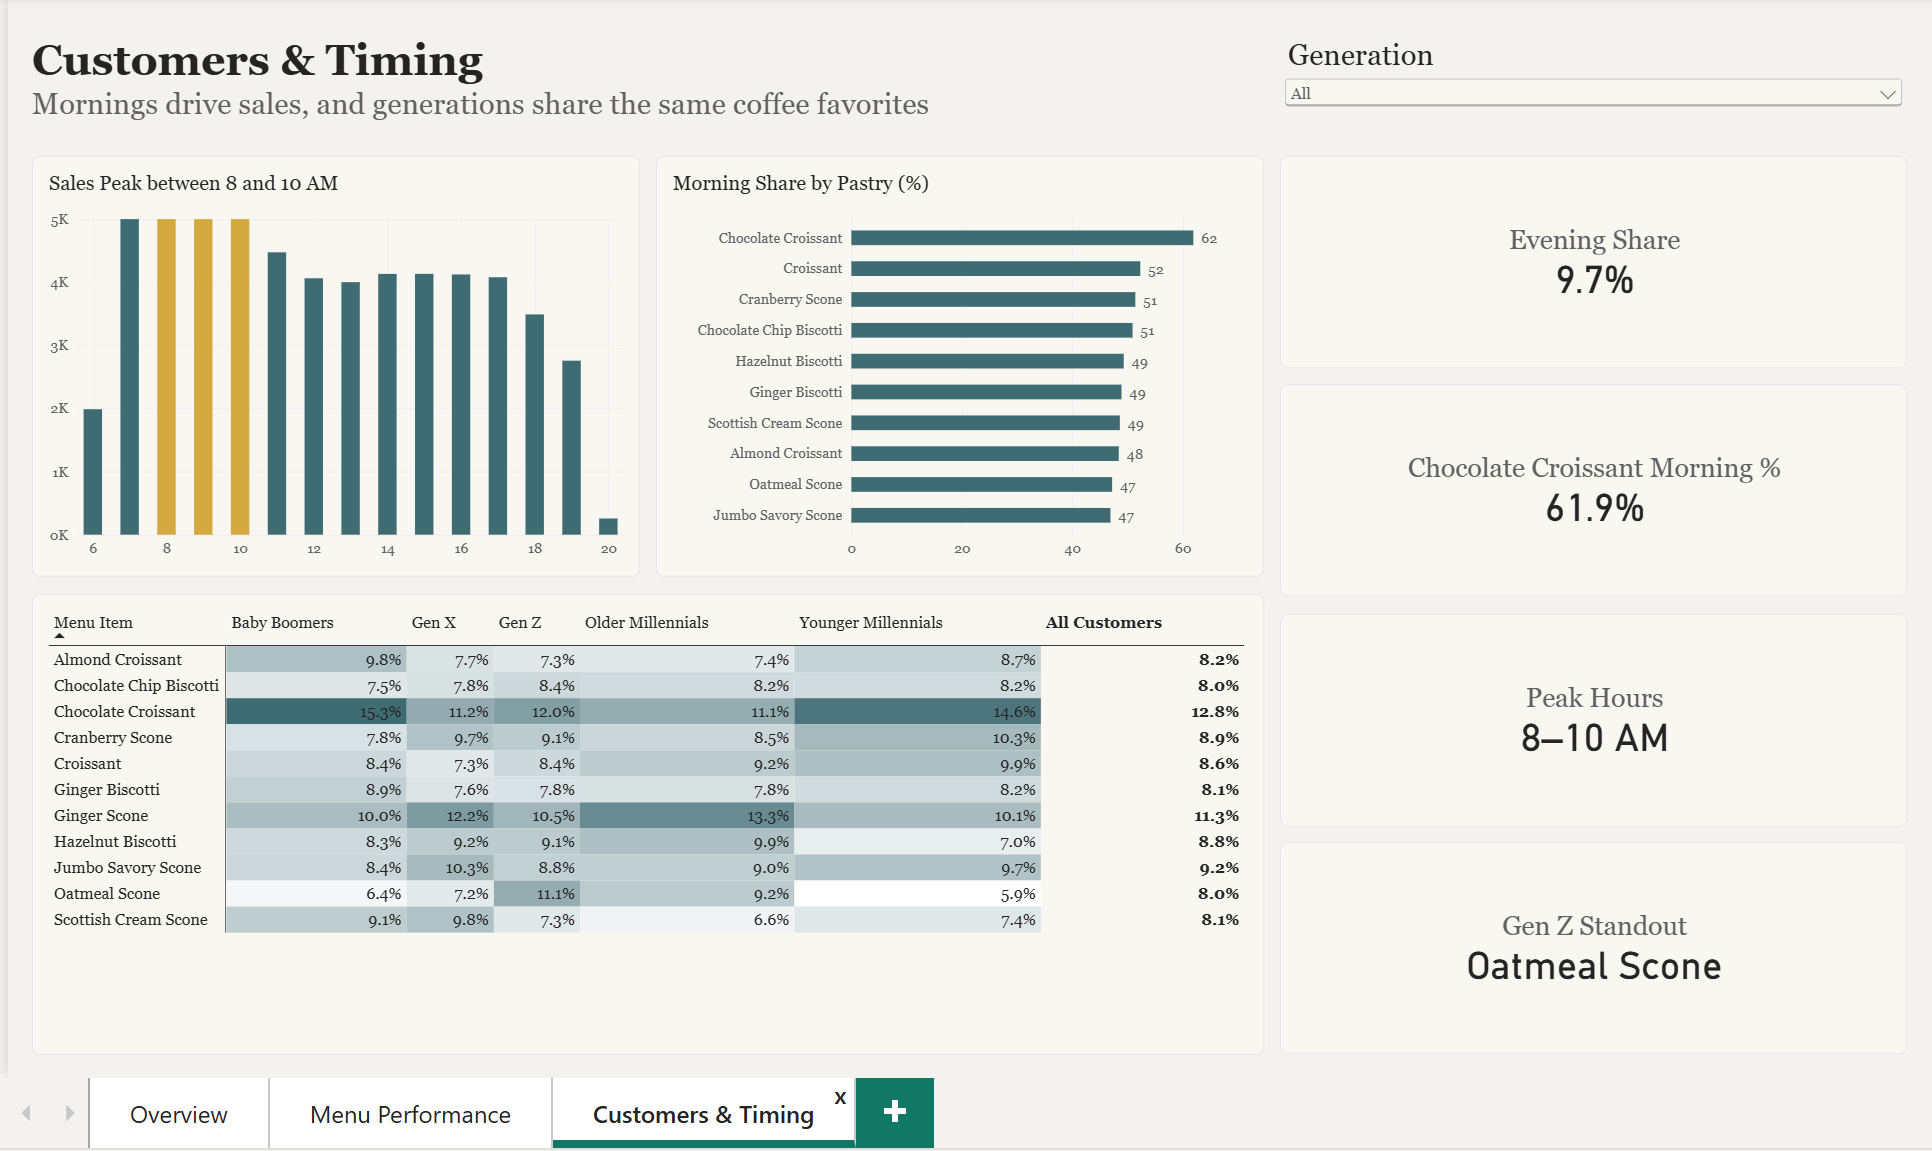

The page's visual inventory and layout, read from the dashboard file:
{"tool":"powerbi","page":{"name":"Customers & Timing","canvas":[1920,1080],"ordinal":2},"visuals":[{"type":"textbox","title":"Customers & Timing","box":[24,40,1200,120],"z":0},{"type":"slicer","fields":{"Values":["generations.generation"]},"box":[1270,40.9,626,100],"z":1},{"type":"clusteredColumnChart","title":"Sales Peak between 8 and 10 AM","fields":{"Category":["sales_reciepts.Hour"],"Y":["sales_reciepts.Units Sold"]},"box":[24,160,607,420],"z":2},{"type":"clusteredBarChart","title":"Morning Share by Pastry (%)","fields":{"Category":["daypart_sales.menu_item"],"Y":["Avg(daypart_sales.pct_of_item)"]},"box":[647,160,607,420],"z":3},{"type":"pivotTable","fields":{"Columns":["generations.generation"],"Rows":["product.menu_item"],"Values":["sales_reciepts.% of Generation's Pastries"]},"box":[24,596,1230,460],"z":4},{"type":"cardVisual","fields":{"Data":["sales_reciepts.Evening Share"]},"box":[1270,160,626,212],"z":5},{"type":"cardVisual","fields":{"Data":["sales_reciepts.Choc Croissant Morning %"]},"box":[1270,388,626,212],"z":6},{"type":"cardVisual","fields":{"Data":["sales_reciepts.Peak Hours"]},"box":[1270,616,626,212],"z":7},{"type":"cardVisual","fields":{"Data":["sales_reciepts.Gen Z Standout"]},"box":[1270,844,626,212],"z":8}]}

Visuals, with their boxes on the page's 1920x1080 design canvas (x1, y1, x2, y2). These are canvas units, not pixel positions in the 1932x1151 screenshot, which may show the page scaled, cropped or inside an application window:
"Customers & Timing" textbox: [24,40,1224,160]
slicer - generations.generation: [1270,41,1896,141]
"Sales Peak between 8 and 10 AM" clusteredColumnChart: [24,160,631,580]
"Morning Share by Pastry (%)" clusteredBarChart: [647,160,1254,580]
pivotTable - generations.generation x product.menu_item: [24,596,1254,1056]
cardVisual - sales_reciepts.Evening Share: [1270,160,1896,372]
cardVisual - sales_reciepts.Choc Croissant Morning %: [1270,388,1896,600]
cardVisual - sales_reciepts.Peak Hours: [1270,616,1896,828]
cardVisual - sales_reciepts.Gen Z Standout: [1270,844,1896,1056]
